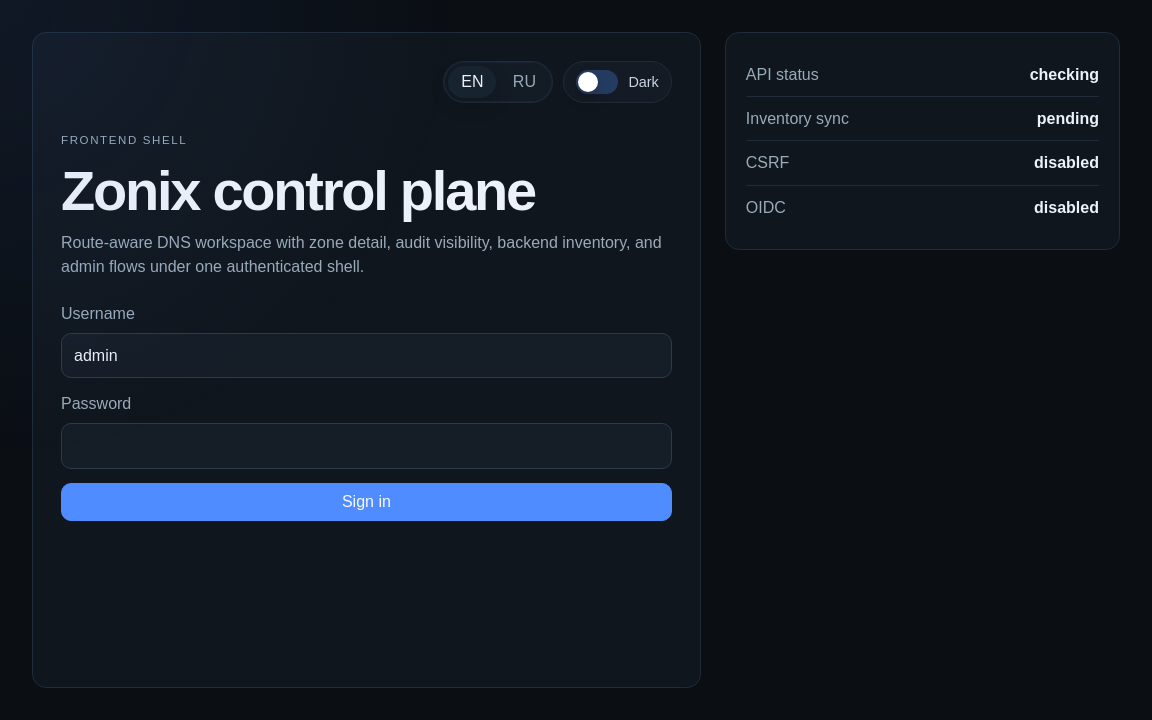
it: App › switches the shell copy to russian from the login surface
Click the button "RU" at (524, 82), box [500,66,548,98]
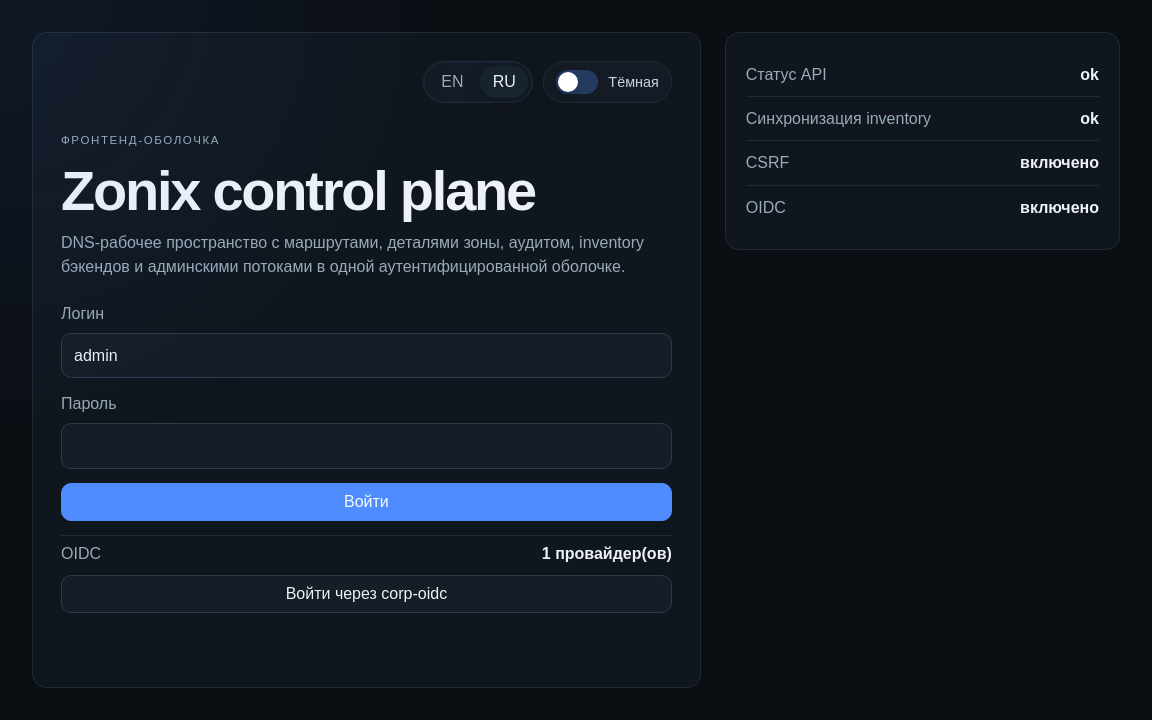
Expected: the button "Войти" is shown, [61,482,672,520]
Expected: the text "Фронтенд-оболочка" is shown, [61,132,220,149]
Expected: the button with aria-label "тема" is shown, [543,61,672,103]
